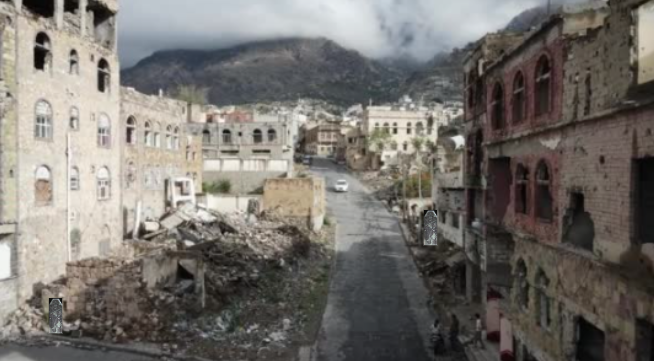HVT1: (424, 211, 437, 244), (49, 299, 62, 332)
